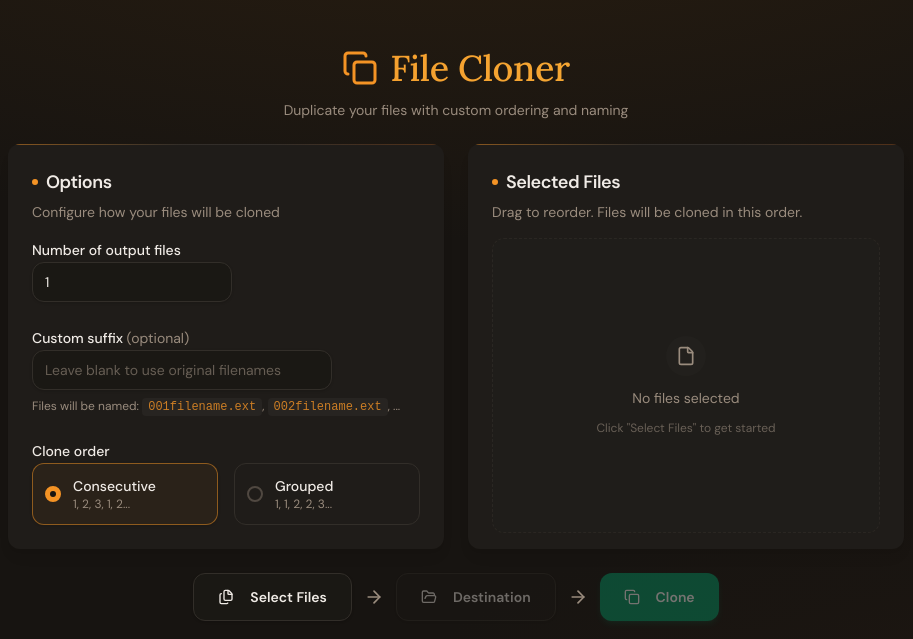
Test: File Cloner App › Options Configuration › allows switching to grouped order
What coordinates should you click on to do the following:
click the radio button named "grouped" next to "Grouped"
I would click on:
 (255, 494)
Its box is [247,486,263,502].
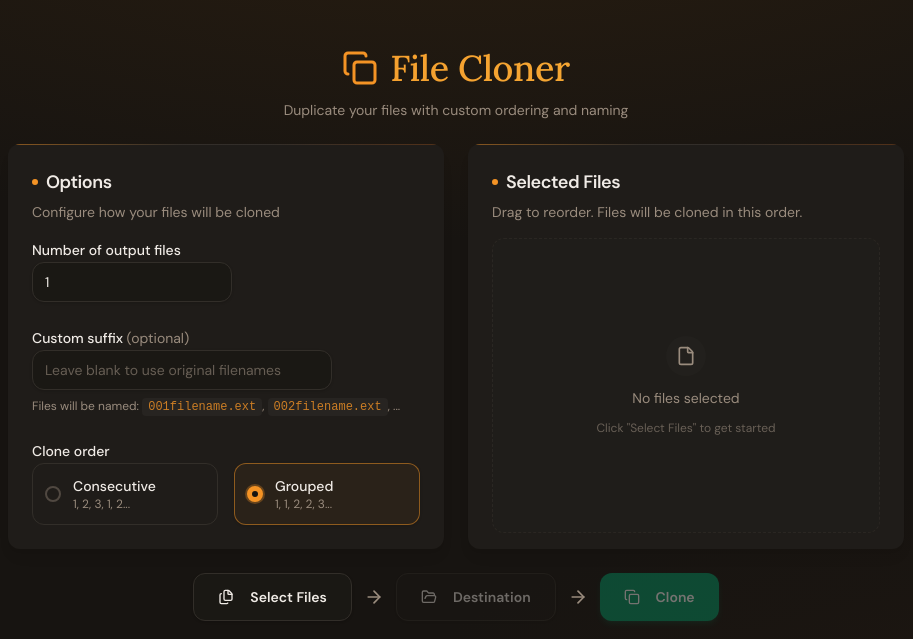
Expected: the radio button named "grouped" next to "Grouped" is checked, [247,486,263,502]
Expected: the radio button named "consecutive" next to "Consecutive" is not checked, [45,486,61,502]
